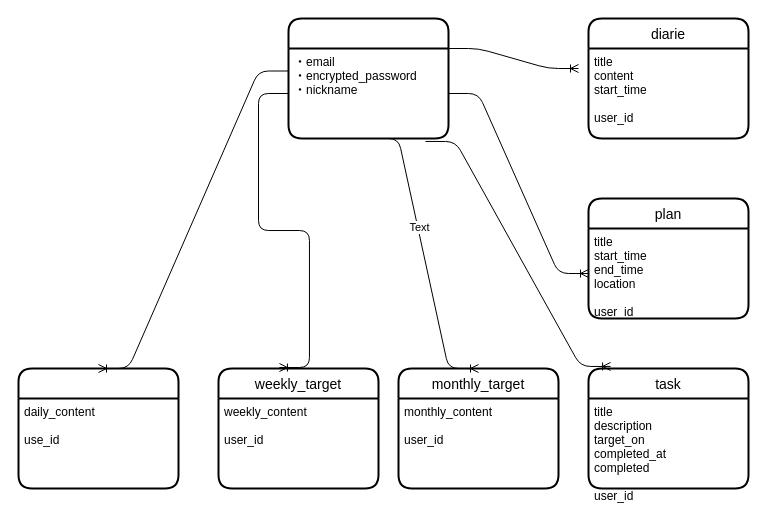
This 766x520 diagram has some shape labels left out. Each missing label, with the box of its shape:
daily_target: (17, 367, 179, 489)
User: (287, 17, 449, 139)
